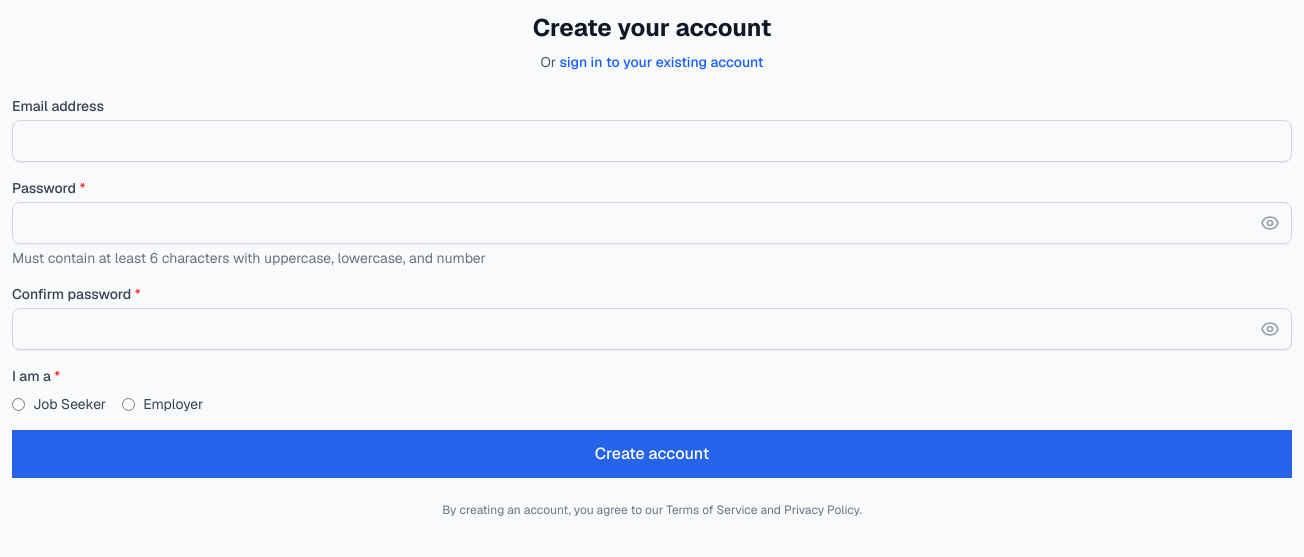
Test: Auth Form Components › SignupForm › should validate password confirmation
Type "test@example.com" into the field labelled "Email address" at (652, 141), box [12,120,1292,162]
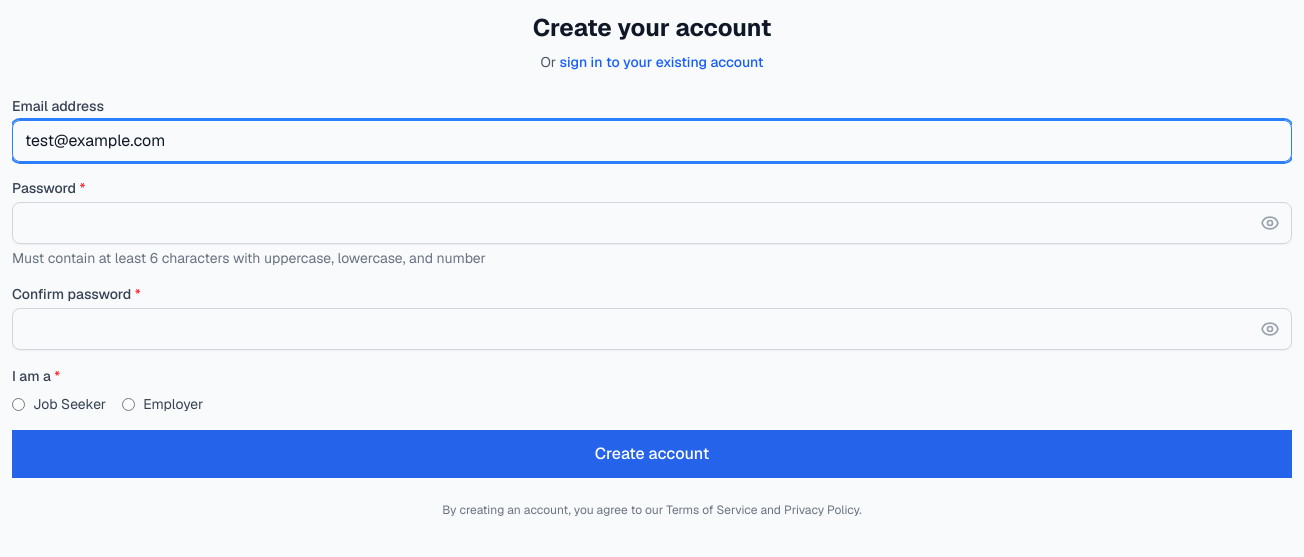
Type "Password123" into the password field labelled "Password *" at (652, 223), box [12,202,1292,244]
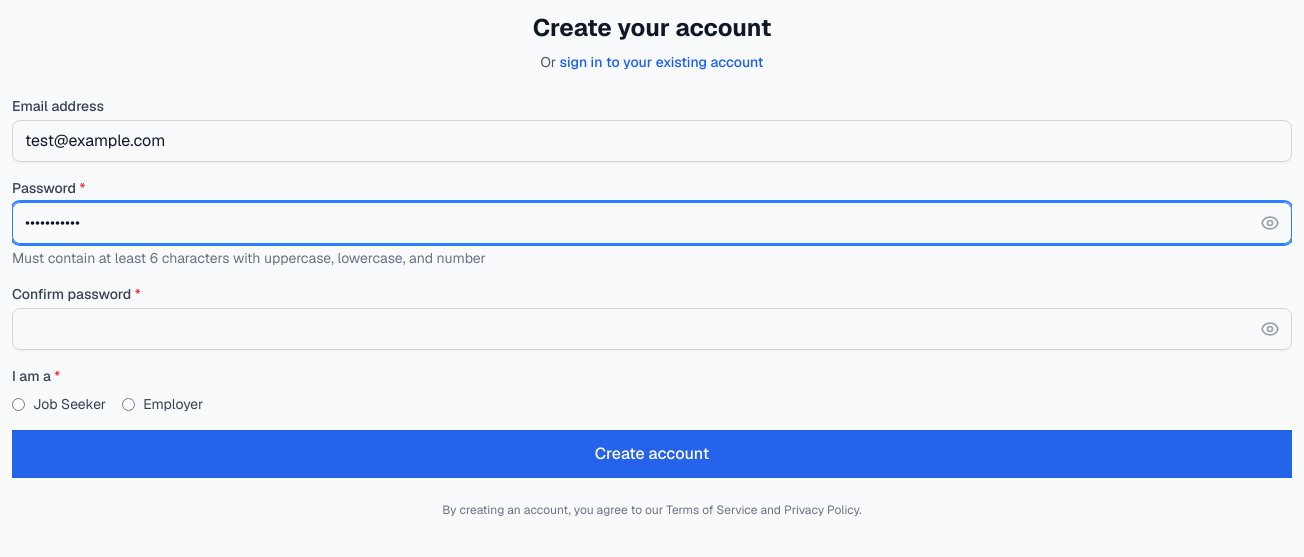
Type "Different123" into the password field labelled "Confirm password *" at (652, 329), box [12,308,1292,350]
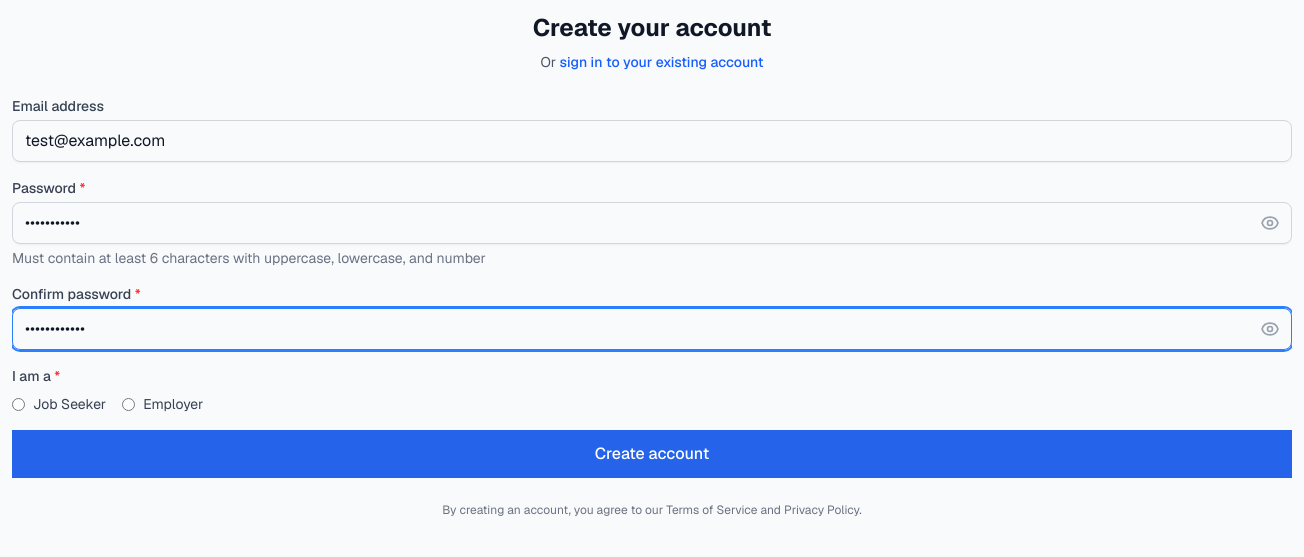
Click the radio button showing "job_seeker" at (18, 404), box [12,398,25,410]
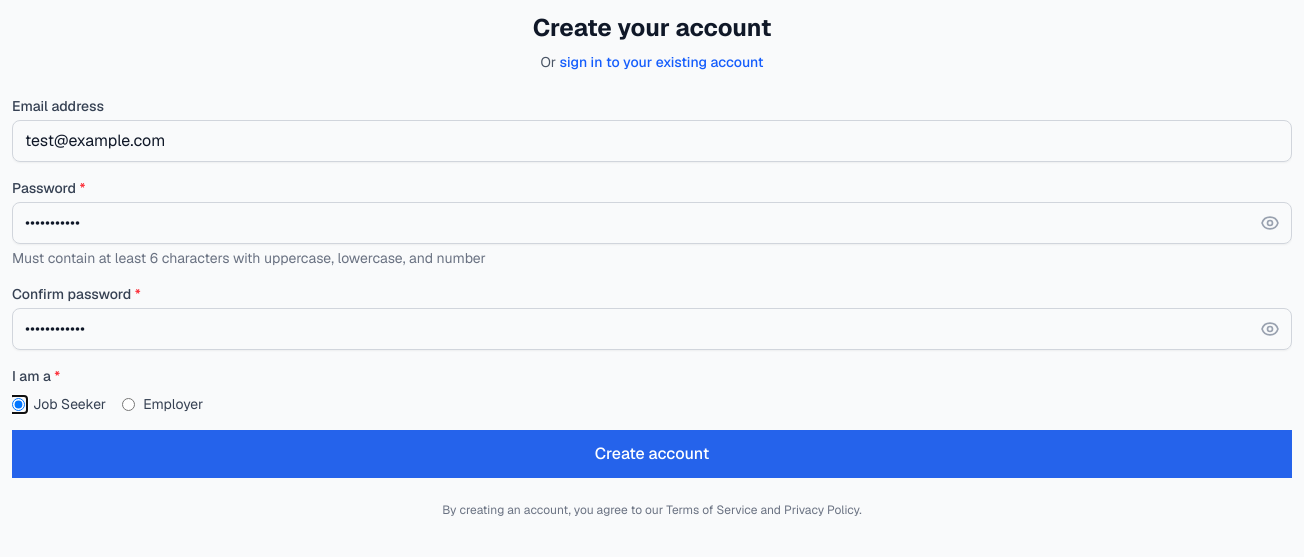
Click the button "Create account" at (652, 454), box [12,430,1292,478]
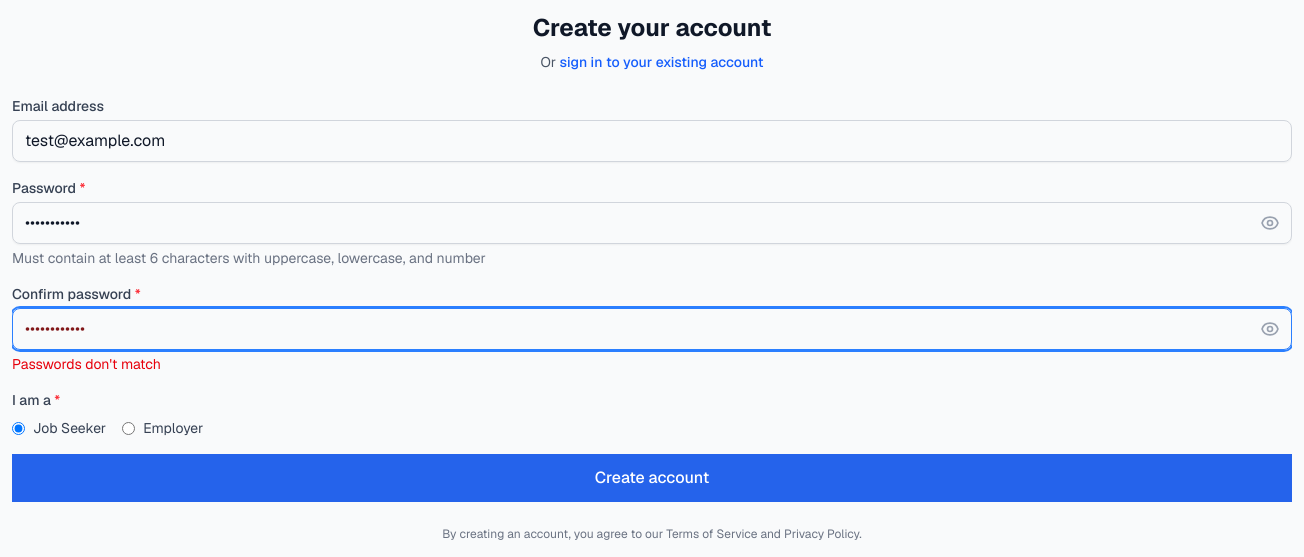
Result: the text "Passwords don't match" is shown at [12,355,161,373]
